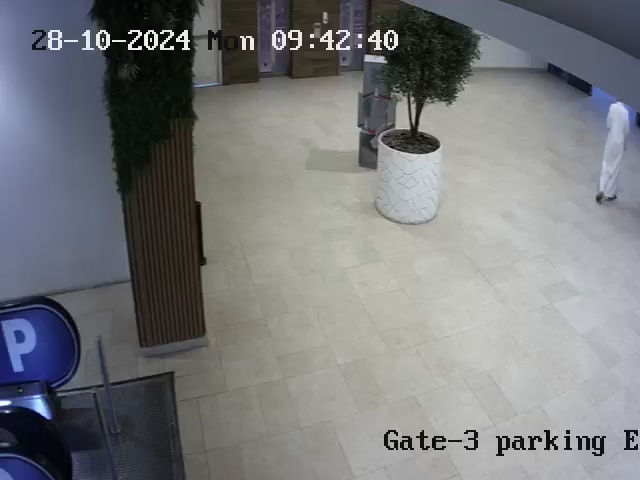male: (596, 98, 631, 204)
